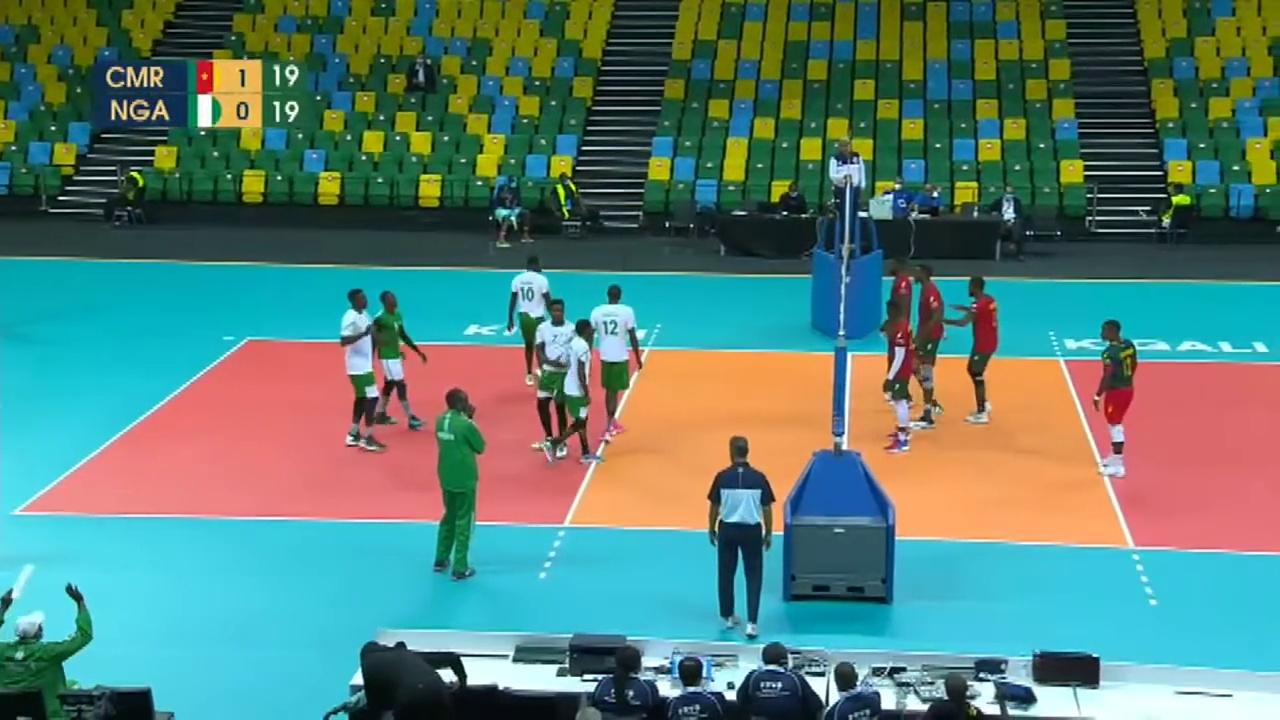player: (584, 282, 649, 450), (545, 319, 607, 467), (362, 293, 427, 433), (1082, 325, 1139, 474), (337, 289, 381, 446), (960, 276, 1002, 422), (912, 264, 947, 434), (536, 300, 572, 459), (880, 301, 916, 456), (510, 258, 551, 383), (884, 256, 915, 409)
refree: (708, 436, 782, 631), (829, 138, 865, 241)
